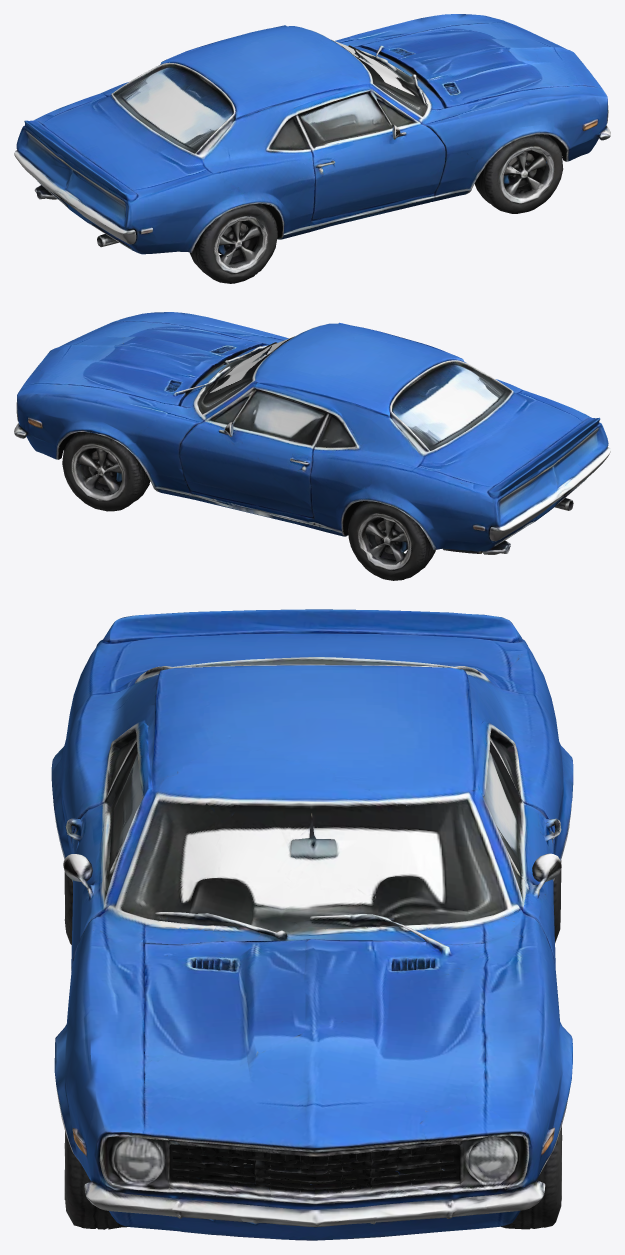
File: sv_stallion_drive.glb
3 renders of one model, top to bottom at view 1: azimuth 30°, elevation 25°; view 2: azimuth 150°, elevation 25°; view 3: azimuth 270°, elevation 25°, orthographic. The views are drawn at different scales.
Parts seen in each view (by area): view 1: body, wheel_FR_part, wheel_RR_part; view 2: body, wheel_FL_part, wheel_RL_part; view 3: body, wheel_FR_part, wheel_FL_part.
Part boxes in pixels (box(x1,y1,x2,y2)): body: box(14, 14, 610, 254); wheel_FR_part: box(474, 134, 563, 213); wheel_RR_part: box(190, 204, 277, 283); body: box(14, 312, 610, 554); wheel_FL_part: box(62, 432, 150, 511); wheel_RL_part: box(348, 501, 435, 580); body: box(51, 609, 573, 1240); wheel_FR_part: box(64, 1131, 129, 1229); wheel_FL_part: box(501, 1126, 562, 1229).
Size of the model in its own units: 1.9 by 0.555 by 0.8272.
Materials: 4 (4 with a texture image).
